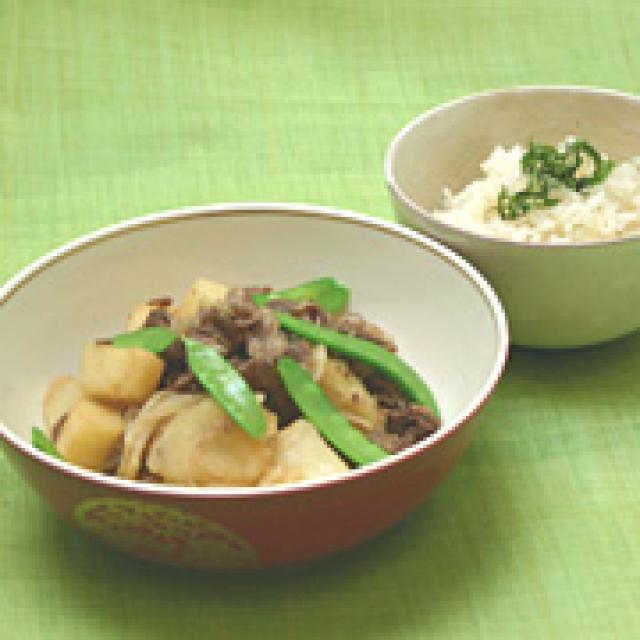牛肉菜式: (0, 192, 519, 569)
